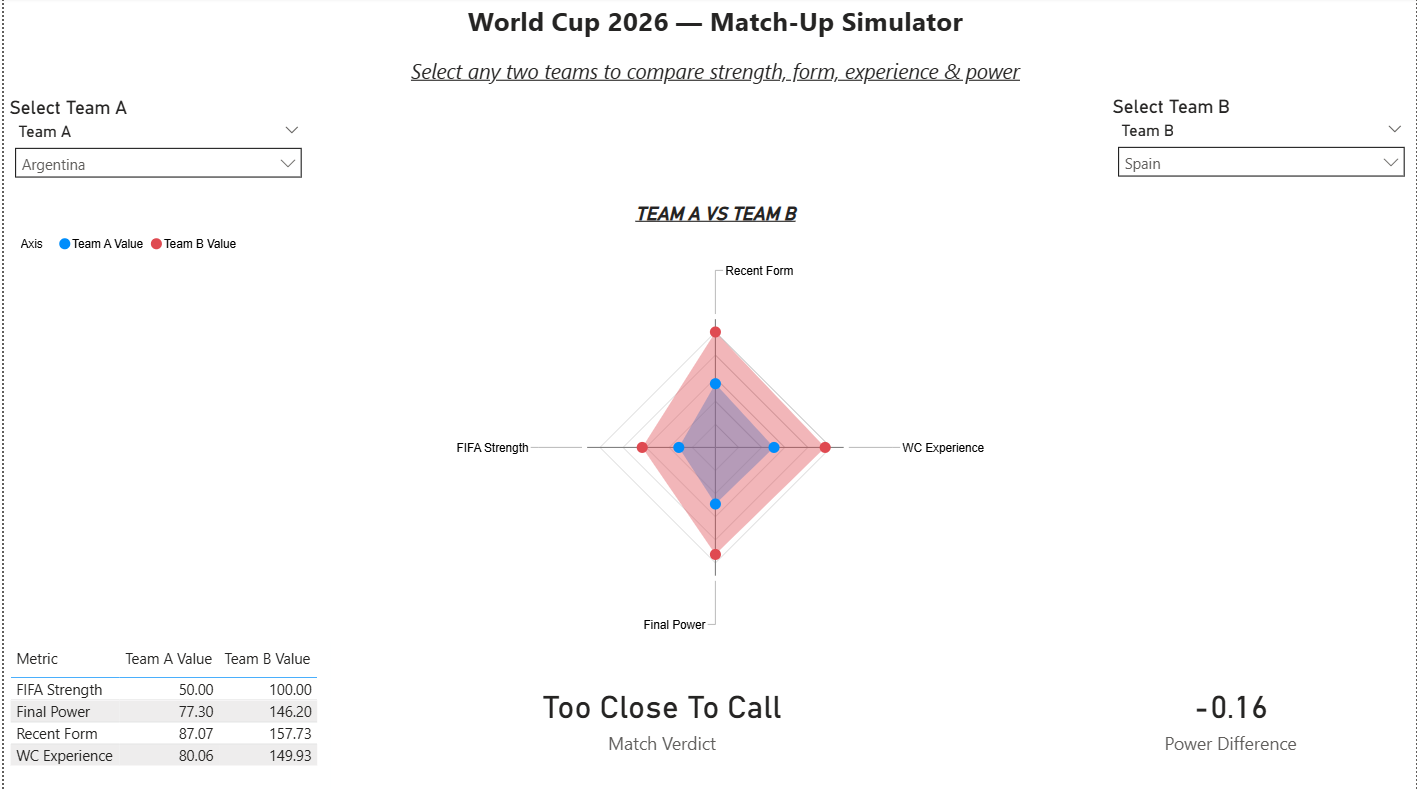

The dashboard page shown, as its layout file describes it:
{"tool":"powerbi","page":{"name":"Match-Up Simulator","canvas":[1280,720],"ordinal":3},"visuals":[{"type":"slicer","title":"Select Team A","fields":{"Values":["Team A Selector.Team A"]},"box":[0,89.5,280.1,88.5],"z":0},{"type":"slicer","title":"Select Team B","fields":{"Values":["Team B Selector.Team B"]},"box":[999.9,88.5,280.1,89.5],"z":1000},{"type":"RadarChart1446119667547","title":"TEAM A VS TEAM B","fields":{"Category":["Radar Axis.Metric"],"Y":["Radar Axis.Team A Radar Value (Norm)","Radar Axis.Team B Radar Value (Norm)"]},"box":[9.7,185.8,1270.3,398.8],"z":2000},{"type":"card","fields":{"Values":["gold_final_power_score.Power Difference"]},"box":[944,584.9,336.4,135.1],"z":3000},{"type":"card","fields":{"Values":["gold_final_power_score.Match Verdict"]},"box":[393.6,584.9,406.2,135.1],"z":4000},{"type":"tableEx","fields":{"Values":["Radar Axis.Metric","Radar Axis.Team A Radar Value (Norm)","Radar Axis.Team B Radar Value (Norm)"]},"box":[0,584.9,295.6,135.1],"z":5000},{"type":"textbox","box":[9.7,0,1270.3,88.5],"z":6000}]}

Visuals, with their boxes in screenshot pixels (x1, y1, x2, y2), scaled from the page's 1280x720 canvas onto the 1417x789 screenshot:
"Select Team A" slicer: crop(0, 98, 310, 195)
"Select Team B" slicer: crop(1107, 97, 1416, 195)
"TEAM A VS TEAM B" RadarChart1446119667547: crop(11, 204, 1416, 641)
card - gold_final_power_score.Power Difference: crop(1045, 641, 1416, 788)
card - gold_final_power_score.Match Verdict: crop(436, 641, 885, 788)
tableEx - Radar Axis.Metric x Radar Axis.Team A Radar Value (Norm): crop(0, 641, 327, 788)
textbox: crop(11, 0, 1416, 97)
